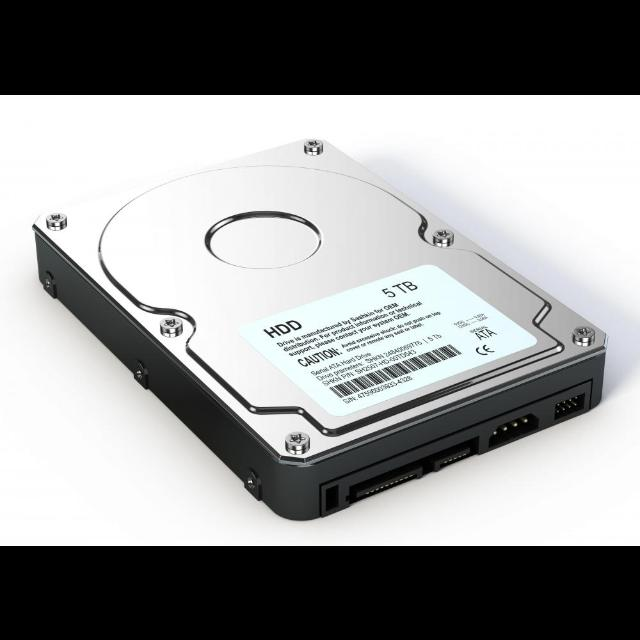HDD: (30, 137, 609, 523)
